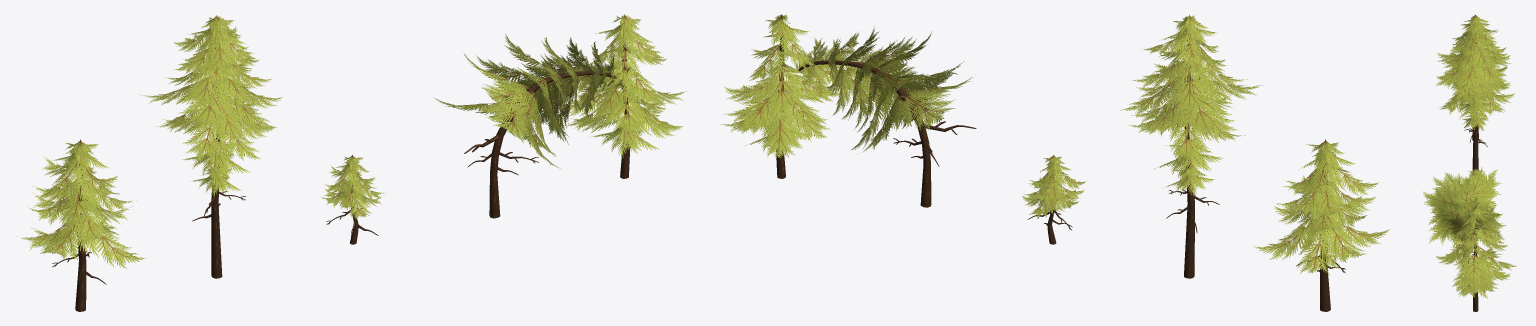
The model's file is Pine Trees.fbx.
3 views of the same model, side by side, from view 1: azimuth 30°, elevation 25°; view 2: azimuth 150°, elevation 25°; view 3: azimuth 270°, elevation 25° (orthographic). The views are drawn at different scales.
Visible parts, largest first — view 1: Pine Tree 2, Pine Tree 4, Pine Tree 1, Pine Tree 5, Pine Tree 3; view 2: Pine Tree 2, Pine Tree 4, Pine Tree 1, Pine Tree 5, Pine Tree 3; view 3: Pine Tree 2, Pine Tree 4, Pine Tree 5, Pine Tree 1, Pine Tree 3.
Part boxes in pixels (bbox=[...]): Pine Tree 2: bbox=[139, 15, 282, 278]; Pine Tree 4: bbox=[433, 33, 631, 218]; Pine Tree 1: bbox=[17, 139, 145, 311]; Pine Tree 5: bbox=[558, 14, 686, 178]; Pine Tree 3: bbox=[321, 154, 383, 244]; Pine Tree 2: bbox=[1120, 15, 1263, 278]; Pine Tree 4: bbox=[792, 26, 976, 207]; Pine Tree 1: bbox=[1254, 139, 1390, 311]; Pine Tree 5: bbox=[720, 14, 839, 178]; Pine Tree 3: bbox=[1022, 155, 1086, 244]; Pine Tree 2: bbox=[1436, 14, 1510, 170]; Pine Tree 4: bbox=[1423, 167, 1505, 268]; Pine Tree 5: bbox=[1436, 206, 1516, 311]; Pine Tree 1: bbox=[1440, 34, 1515, 140]; Pine Tree 3: bbox=[1467, 168, 1495, 205].
Bounding box in the file's own units: 7284 × 2769 × 1496.
